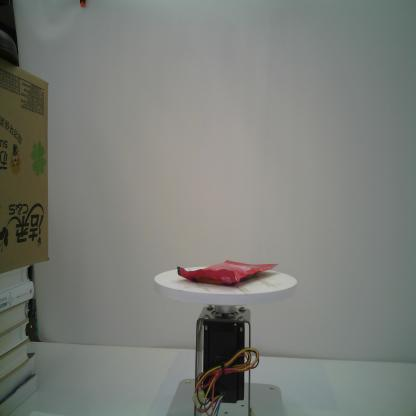Candy: (177, 260, 278, 284)
